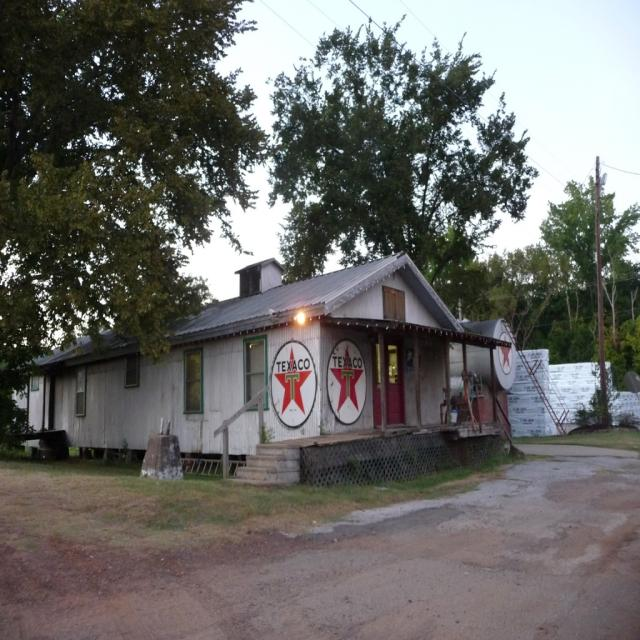texaco: (271, 342, 317, 428), (326, 342, 367, 425), (499, 335, 513, 375)
